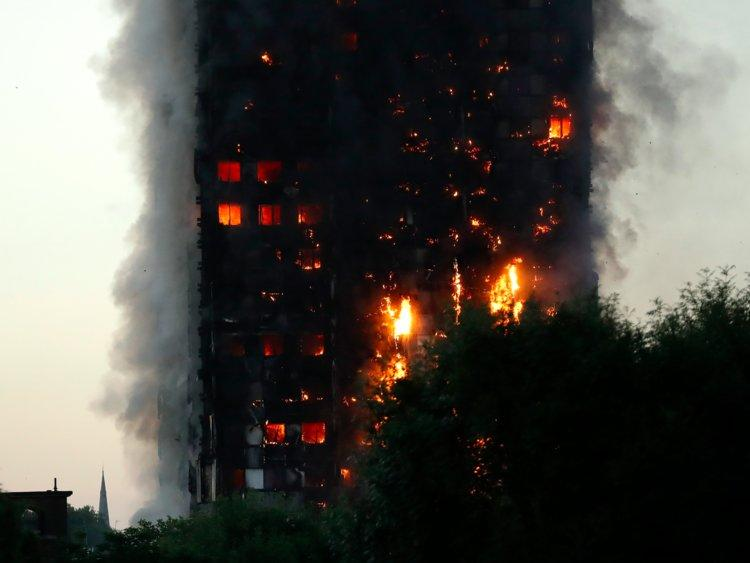Fire: (208, 2, 595, 508)
